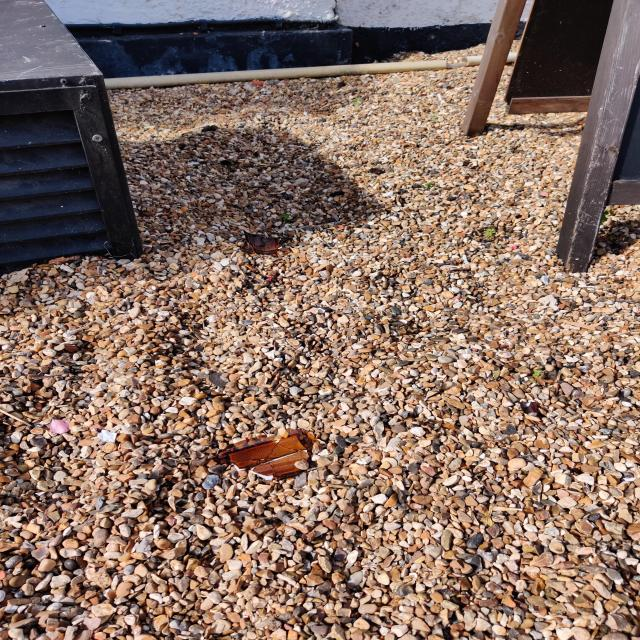litter: (217, 428, 317, 481), (242, 233, 291, 255)
